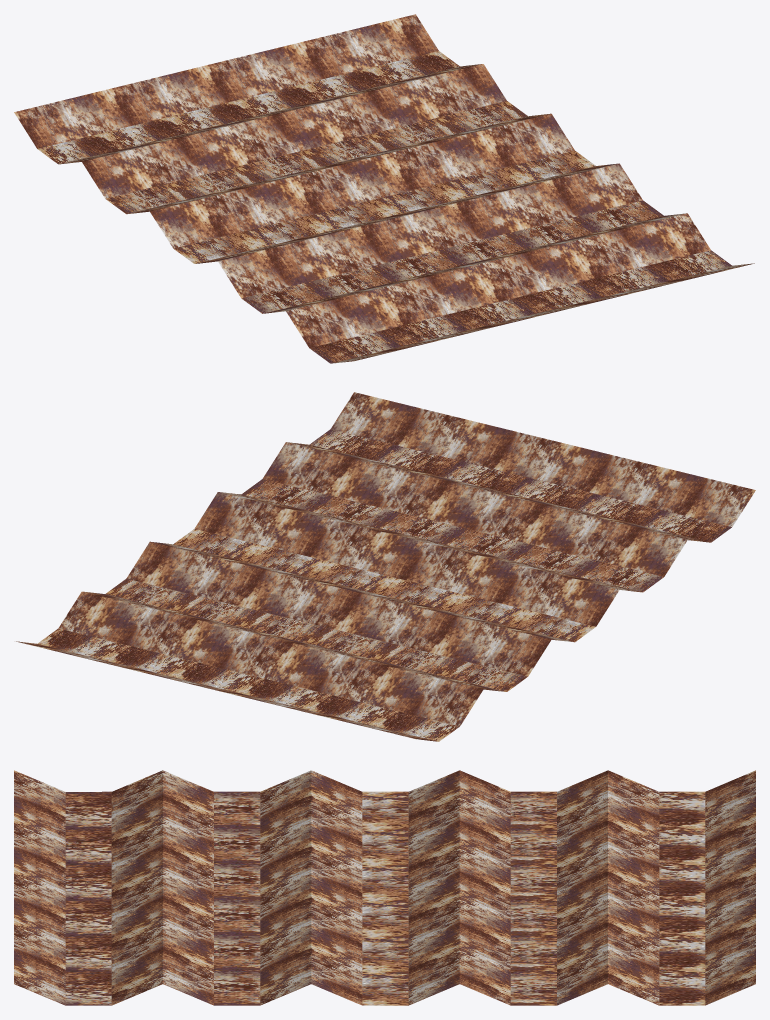
File: Scrap_parts_metal_plate.glb
3 renders of one model, top to bottom at view 1: azimuth 30°, elevation 25°; view 2: azimuth 150°, elevation 25°; view 3: azimuth 270°, elevation 25°, orthographic. The views are drawn at different scales.
Parts seen in each view (by area): view 1: Plane.003; view 2: Plane.003; view 3: Plane.003.
Boxes of the visible parts, x1,y1,x2,y2 form: Plane.003: (14, 14, 754, 363); Plane.003: (16, 392, 755, 741); Plane.003: (14, 770, 755, 1005).
Size of the model in its own units: 2.22 by 0.1046 by 3.26.
1 material, 1 textured.
